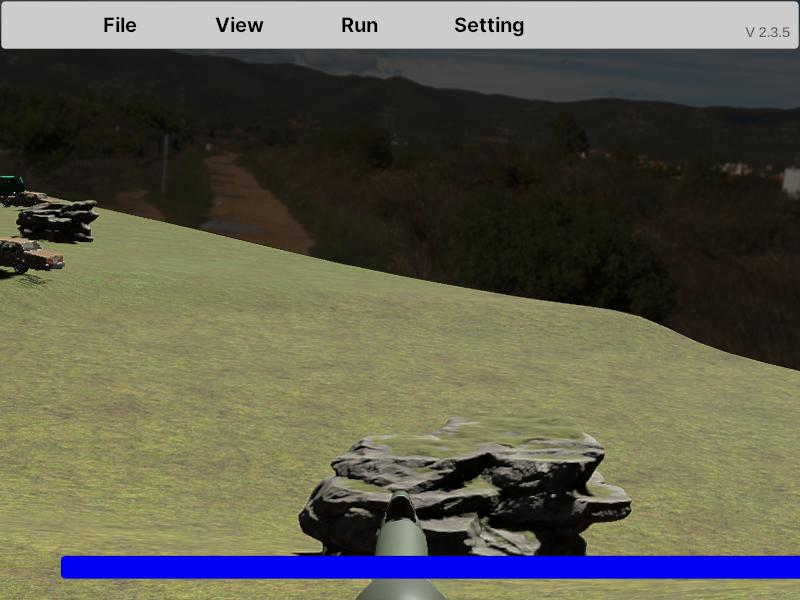car: (0, 237, 64, 274), (0, 175, 25, 204)
